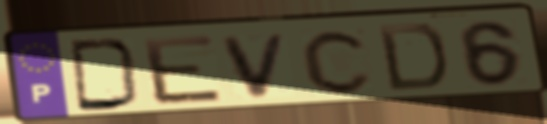6: (456, 18, 523, 88)
C: (299, 27, 377, 97)
D: (66, 38, 144, 114), (374, 22, 451, 94)
E: (139, 33, 228, 107)
V: (219, 30, 293, 101)
